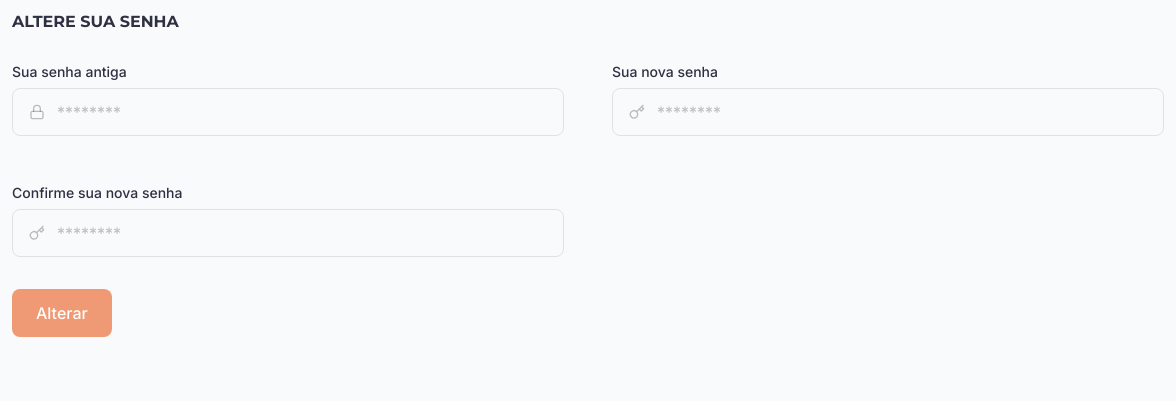
Test: shows validation error when submit is clicked and old password is not provided
The image size is (1176, 401).
Type "new-password" into the password field labelled "Sua nova senha" at x=910, y=112, box [657,89,1163,135]
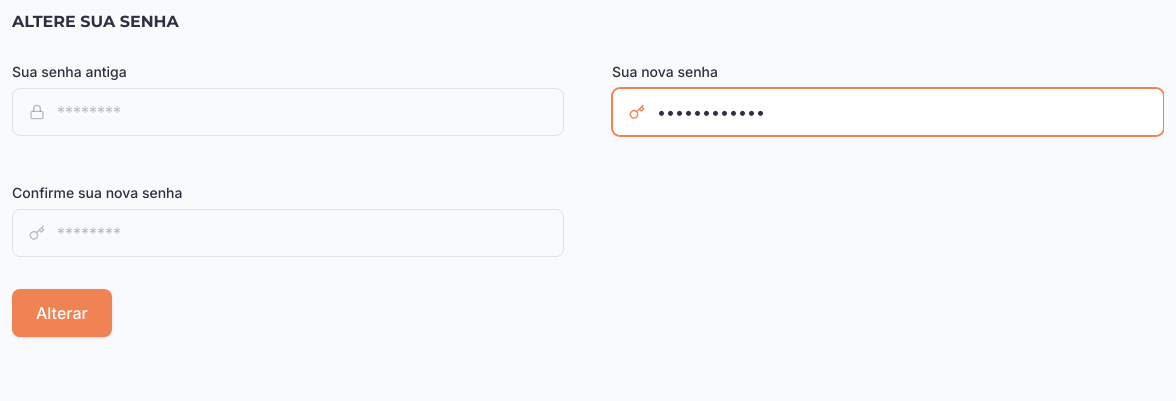
Click the button "Alterar" at x=62, y=313, box [12,289,112,337]
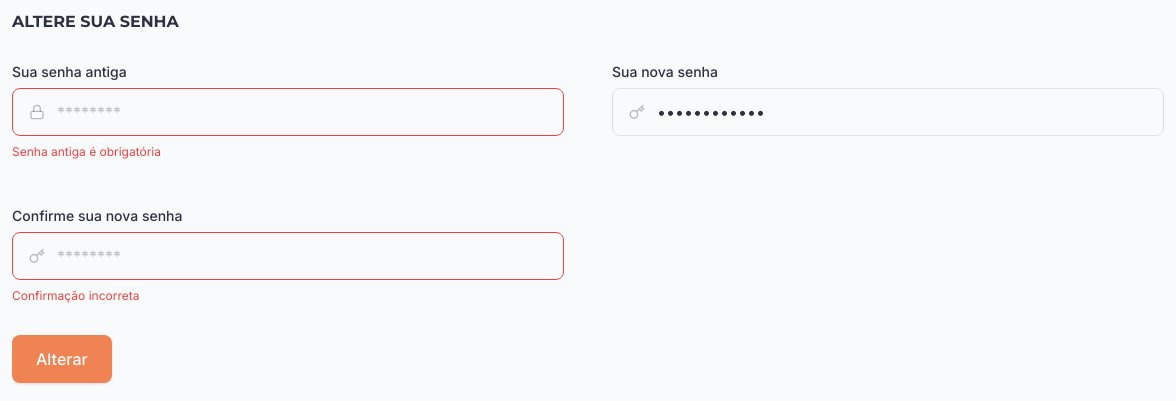
Expected: the text "Senha antiga é obrigatória" is shown, [12,144,161,159]
